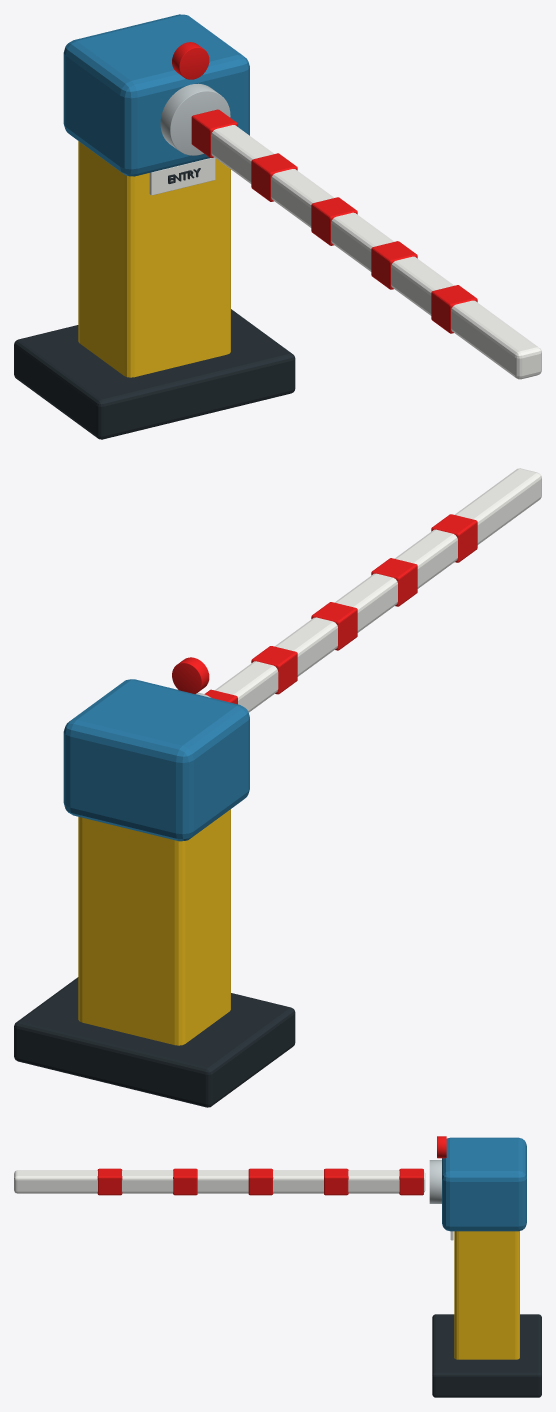
The model's file is parking_barrier.glb.
The picture shows the model from 3 angles, top to bottom: view 1: azimuth 30°, elevation 25°; view 2: azimuth 150°, elevation 25°; view 3: azimuth 270°, elevation 25°; orthographic projection. The views are drawn at different scales.
Visible parts, largest first — view 1: BARRIER_PEDESTAL, BARRIER_HEAD, BARRIER_BASE, BARRIER_BOOM, BARRIER_PIVOT, BARRIER_NAMEPLATE, BOOM_STRIPE_-1.1, BOOM_STRIPE_-2.2, BOOM_STRIPE_-2.75, BOOM_STRIPE_-1.65, BOOM_STRIPE_-0.55, STATUS_LAMP; view 2: BARRIER_PEDESTAL, BARRIER_HEAD, BARRIER_BASE, BARRIER_BOOM, BOOM_STRIPE_-2.2, BOOM_STRIPE_-2.75, BOOM_STRIPE_-1.1, BOOM_STRIPE_-1.65, STATUS_LAMP; view 3: BARRIER_PEDESTAL, BARRIER_HEAD, BARRIER_BOOM, BARRIER_BASE, BOOM_STRIPE_-1.65, BOOM_STRIPE_-2.2, BOOM_STRIPE_-0.55, BOOM_STRIPE_-1.1, BOOM_STRIPE_-2.75, BARRIER_PIVOT.
Boxes of the visible parts, x1,y1,x2,y2 form: BARRIER_PEDESTAL: (78, 141, 230, 377); BARRIER_HEAD: (63, 14, 249, 176); BARRIER_BASE: (14, 309, 295, 439); BARRIER_BOOM: (211, 125, 541, 379); BARRIER_PIVOT: (160, 83, 230, 155); BARRIER_NAMEPLATE: (149, 157, 215, 195); BOOM_STRIPE_-1.1: (251, 153, 297, 201); BOOM_STRIPE_-2.2: (371, 241, 417, 289); BOOM_STRIPE_-2.75: (431, 285, 477, 333); BOOM_STRIPE_-1.65: (311, 197, 357, 245); BOOM_STRIPE_-0.55: (191, 109, 237, 157); STATUS_LAMP: (172, 42, 209, 79); BARRIER_PEDESTAL: (78, 809, 230, 1045); BARRIER_HEAD: (63, 679, 249, 841); BARRIER_BASE: (14, 977, 295, 1107); BARRIER_BOOM: (215, 468, 541, 712); BOOM_STRIPE_-2.2: (371, 558, 417, 606); BOOM_STRIPE_-2.75: (431, 514, 477, 562); BOOM_STRIPE_-1.1: (251, 646, 297, 694); BOOM_STRIPE_-1.65: (311, 602, 357, 650); STATUS_LAMP: (172, 657, 209, 693); BARRIER_PEDESTAL: (454, 1231, 519, 1359); BARRIER_HEAD: (442, 1137, 526, 1231); BARRIER_BOOM: (14, 1170, 425, 1193); BARRIER_BASE: (432, 1314, 541, 1397); BOOM_STRIPE_-1.65: (248, 1168, 273, 1195); BOOM_STRIPE_-2.2: (173, 1168, 197, 1195); BOOM_STRIPE_-0.55: (399, 1168, 423, 1195); BOOM_STRIPE_-1.1: (324, 1168, 348, 1195); BOOM_STRIPE_-2.75: (97, 1168, 122, 1195); BARRIER_PIVOT: (429, 1160, 441, 1203).
Size of the model in its own units: 1.05 by 1.86 by 3.85.
